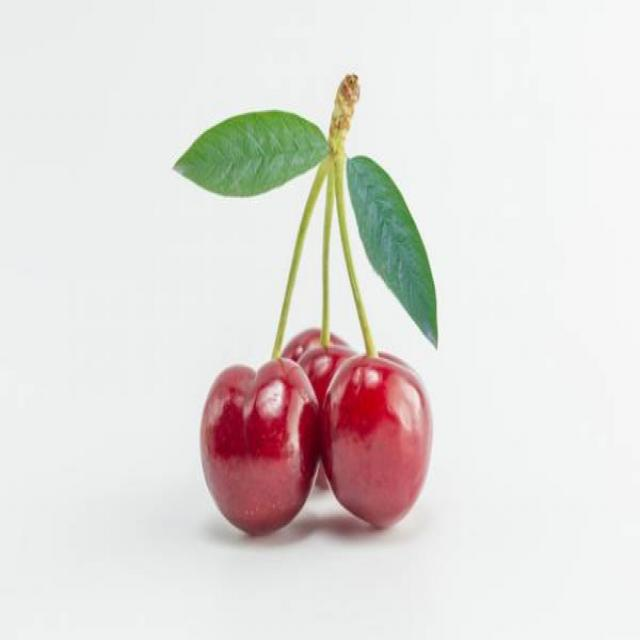cherry: (199, 67, 432, 536)
